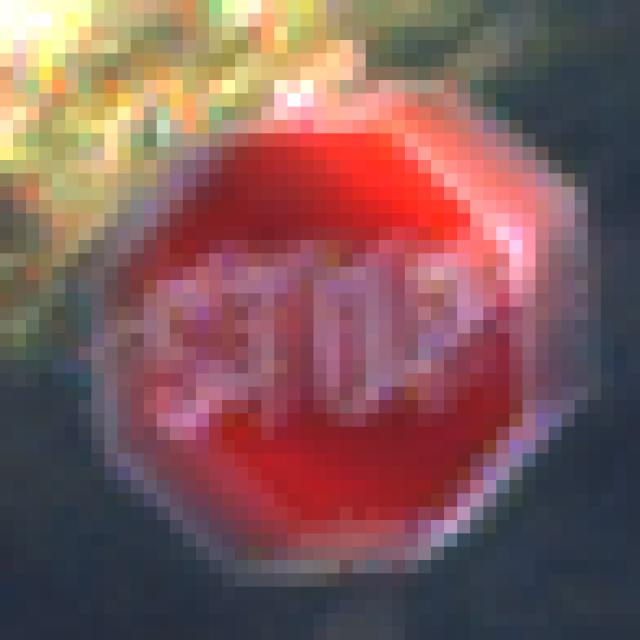STOP: (79, 68, 576, 574)
